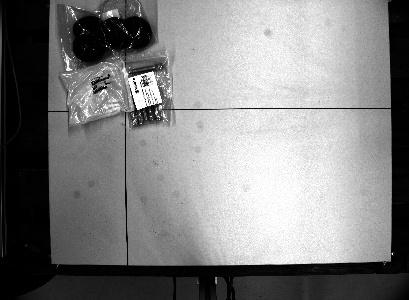t1: (53, 1, 167, 71)
t2: (119, 52, 180, 130)
t3: (57, 59, 133, 127)
